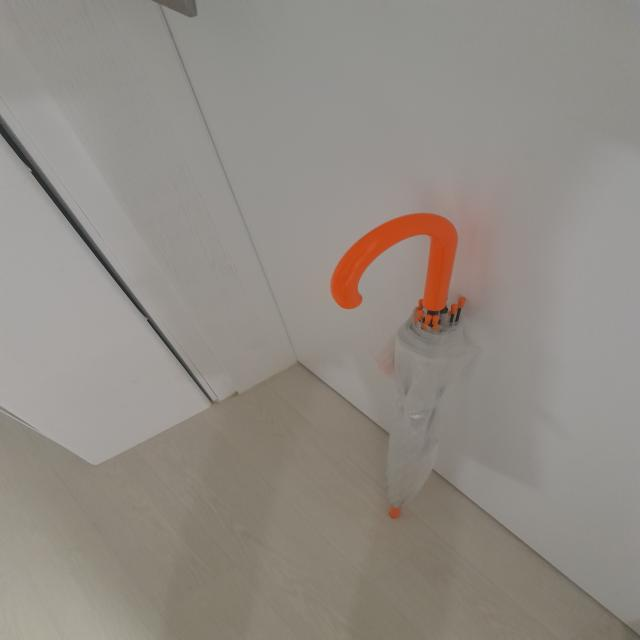umbrella: (332, 212, 486, 520)
